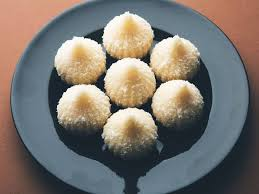modak: (102, 104, 172, 156), (148, 31, 210, 87), (59, 81, 120, 133), (53, 35, 111, 87), (152, 76, 209, 127), (102, 52, 158, 98), (99, 12, 156, 57)
